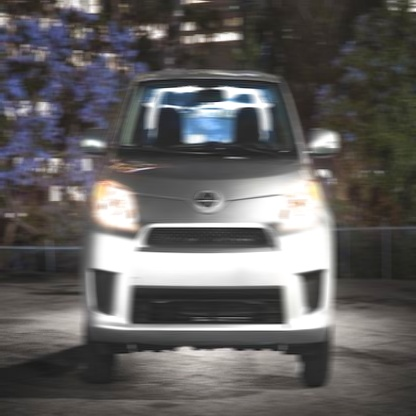Vehicle: (78, 68, 340, 387)
